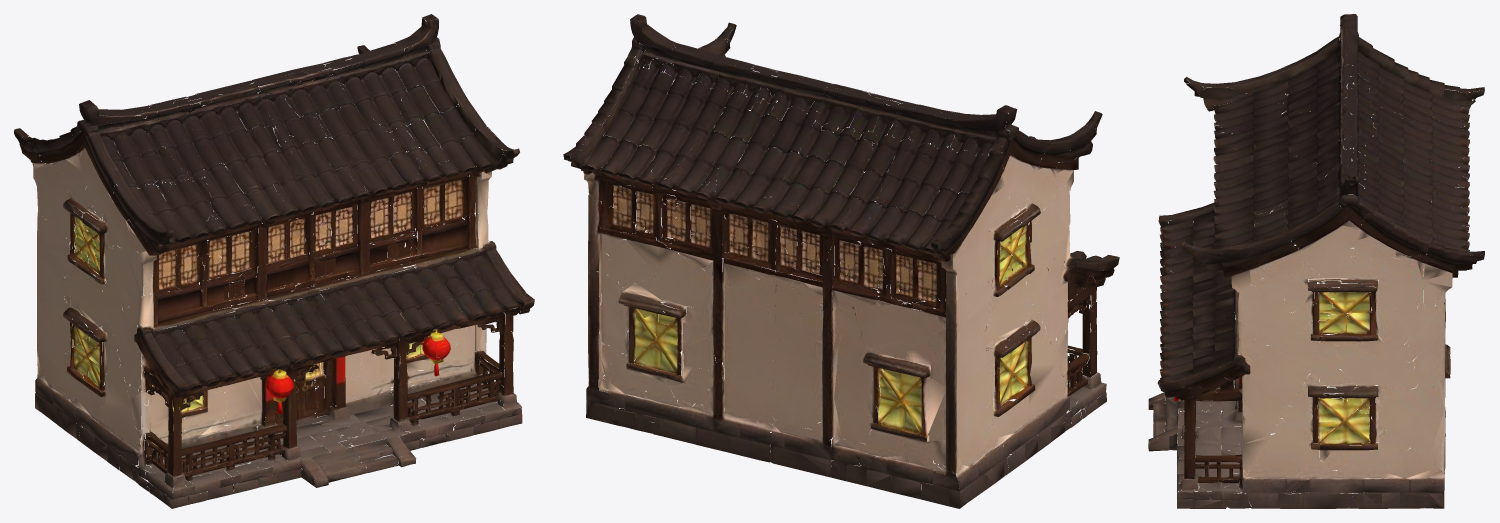
The model's file is house_d_40k.glb.
The picture shows the model from 3 angles, left to right: view 1: azimuth 30°, elevation 25°; view 2: azimuth 150°, elevation 25°; view 3: azimuth 270°, elevation 25°; orthographic projection. The views are drawn at different scales.
Visible parts, largest first — view 1: tripo_node_303aa4f1-62ce-4882-8e1d-e365c292e96b; view 2: tripo_node_303aa4f1-62ce-4882-8e1d-e365c292e96b; view 3: tripo_node_303aa4f1-62ce-4882-8e1d-e365c292e96b.
Boxes of the visible parts, x1,y1,x2,y2 form: tripo_node_303aa4f1-62ce-4882-8e1d-e365c292e96b: [14, 14, 534, 508]; tripo_node_303aa4f1-62ce-4882-8e1d-e365c292e96b: [563, 14, 1119, 508]; tripo_node_303aa4f1-62ce-4882-8e1d-e365c292e96b: [1148, 14, 1484, 508].
Bounding box in the file's own units: 0.9778 × 0.8797 × 0.8117.
1 material, 1 textured.
